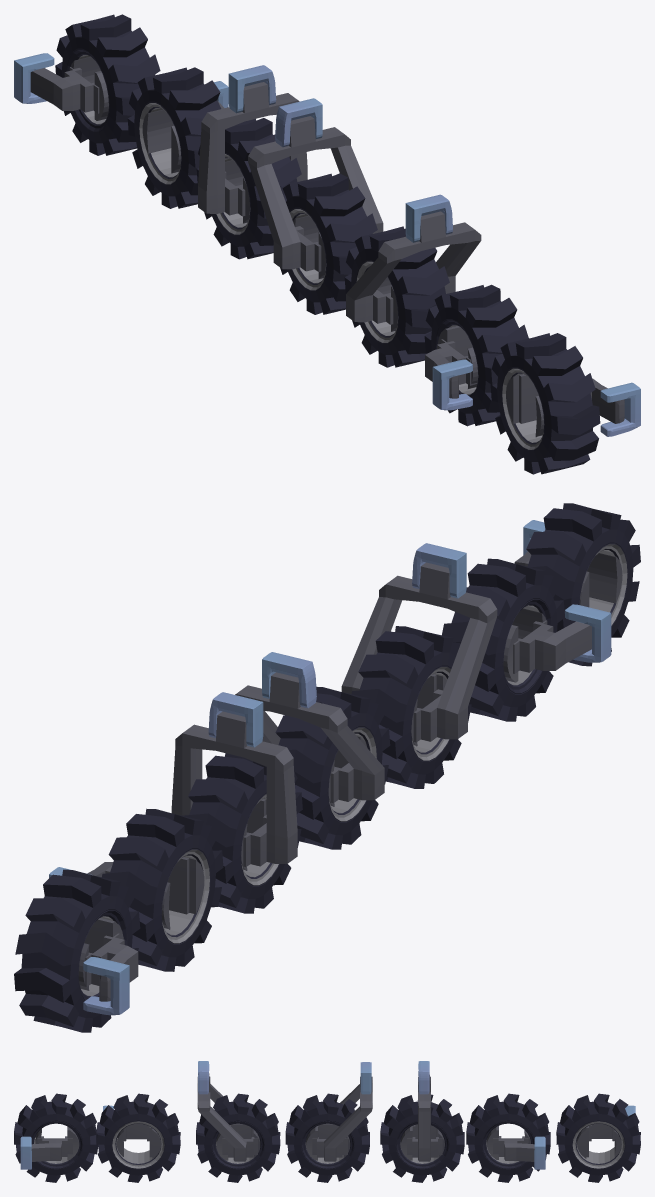
Rendered from Rodas_Areia_Variadas.fbx.
3 views of the same model, one above another, from view 1: azimuth 30°, elevation 25°; view 2: azimuth 150°, elevation 25°; view 3: azimuth 270°, elevation 25° (orthographic). The views are drawn at different scales.
Visible parts, largest first — view 1: Roda_Areia_Direita_Back, Roda_Areia_Heixo_Top_Back, Roda_Areia_Esquerda_Front, Roda_Areia_Direita_Front, Roda_Areia_Top_Back, Roda_Areia_Top_Front, Roda_Areia_Heixo_Top_Front, Roda_Areia_Heixo_Top, Roda_Areia_Esquerda_Back, Roda_Areia_Top, Roda_Areia_Esquerda_Heixo_Front, Roda_Areia_Direita_Heixo_Back (+2 smaller); view 2: Roda_Areia_Esquerda_Front, Roda_Areia_Heixo_Top_Front, Roda_Areia_Direita_Front, Roda_Areia_Heixo_Top, Roda_Areia_Top_Front, Roda_Areia_Esquerda_Back, Roda_Areia_Top_Back, Roda_Areia_Top, Roda_Areia_Direita_Back, Roda_Areia_Heixo_Top_Back, Roda_Areia_Esquerda_Heixo_Back, Roda_Areia_Esquerda_Heixo_Front (+2 smaller); view 3: Roda_Areia_Esquerda_Back, Roda_Areia_Esquerda_Front, Roda_Areia_Top_Back, Roda_Areia_Top_Front, Roda_Areia_Top, Roda_Areia_Direita_Back, Roda_Areia_Direita_Front, Roda_Areia_Heixo_Top_Back, Roda_Areia_Heixo_Top_Front, Roda_Areia_Heixo_Top, Roda_Areia_Direita_Heixo_Back, Roda_Areia_Direita_Heixo_Front (+2 smaller).
Part boxes in pixels (left/top/right/bottom): Roda_Areia_Direita_Back: left=490, top=333, right=600, bottom=474; Roda_Areia_Heixo_Top_Back: left=248, top=98, right=383, bottom=278; Roda_Areia_Esquerda_Front: left=55, top=14, right=160, bottom=155; Roda_Areia_Direita_Front: left=127, top=67, right=227, bottom=208; Roda_Areia_Top_Back: left=280, top=173, right=377, bottom=314; Roda_Areia_Top_Front: left=344, top=226, right=449, bottom=367; Roda_Areia_Heixo_Top_Front: left=346, top=194, right=481, bottom=331; Roda_Areia_Heixo_Top: left=198, top=65, right=307, bottom=223; Roda_Areia_Esquerda_Back: left=424, top=284, right=528, bottom=426; Roda_Areia_Top: left=196, top=118, right=301, bottom=259; Roda_Areia_Esquerda_Heixo_Front: left=14, top=53, right=108, bottom=120; Roda_Areia_Direita_Heixo_Back: left=506, top=374, right=640, bottom=437; Roda_Areia_Esquerda_Front: left=14, top=869, right=140, bottom=1032; Roda_Areia_Heixo_Top_Front: left=341, top=543, right=497, bottom=746; Roda_Areia_Direita_Front: left=102, top=808, right=223, bottom=971; Roda_Areia_Heixo_Top: left=171, top=692, right=297, bottom=870; Roda_Areia_Top_Front: left=351, top=626, right=471, bottom=788; Roda_Areia_Esquerda_Back: left=442, top=558, right=564, bottom=721; Roda_Areia_Top_Back: left=275, top=686, right=390, bottom=849; Roda_Areia_Top: left=182, top=753, right=302, bottom=913; Roda_Areia_Direita_Back: left=526, top=503, right=640, bottom=666; Roda_Areia_Heixo_Top_Back: left=235, top=652, right=384, bottom=806; Roda_Areia_Esquerda_Heixo_Back: left=503, top=604, right=611, bottom=682; Roda_Areia_Esquerda_Heixo_Front: left=78, top=918, right=138, bottom=1015; Roda_Areia_Esquerda_Back: left=96, top=1093, right=180, bottom=1182; Roda_Areia_Esquerda_Front: left=556, top=1093, right=640, bottom=1182; Roda_Areia_Top_Back: left=285, top=1093, right=369, bottom=1182; Roda_Areia_Top_Front: left=196, top=1093, right=280, bottom=1182; Roda_Areia_Top: left=380, top=1094, right=464, bottom=1182; Roda_Areia_Direita_Back: left=14, top=1093, right=98, bottom=1182; Roda_Areia_Direita_Front: left=466, top=1093, right=550, bottom=1182; Roda_Areia_Heixo_Top_Back: left=306, top=1062, right=372, bottom=1161; Roda_Areia_Heixo_Top_Front: left=197, top=1061, right=260, bottom=1161; Roda_Areia_Heixo_Top: left=400, top=1061, right=444, bottom=1161; Roda_Areia_Direita_Heixo_Back: left=20, top=1126, right=79, bottom=1169; Roda_Areia_Direita_Heixo_Front: left=487, top=1126, right=545, bottom=1169.
Bounding box in the file's own units: 152 × 191 × 985.
